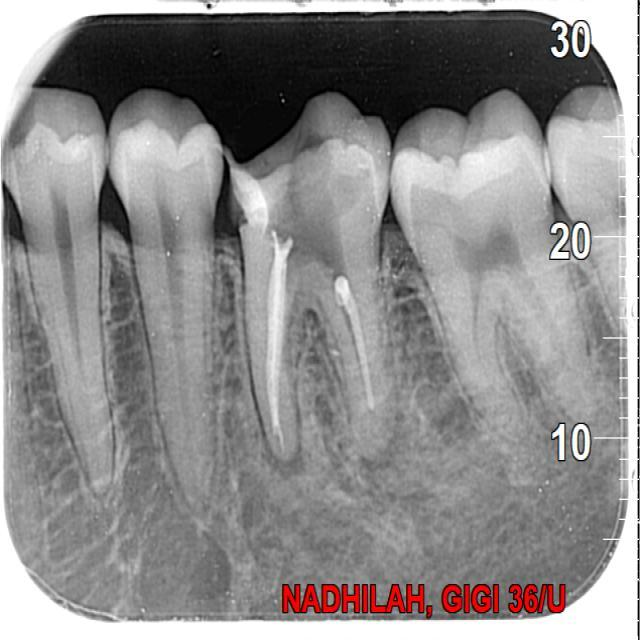individual-tooth-8tto: (386, 97, 595, 452), (226, 85, 400, 465), (0, 83, 125, 482), (108, 101, 220, 499)
